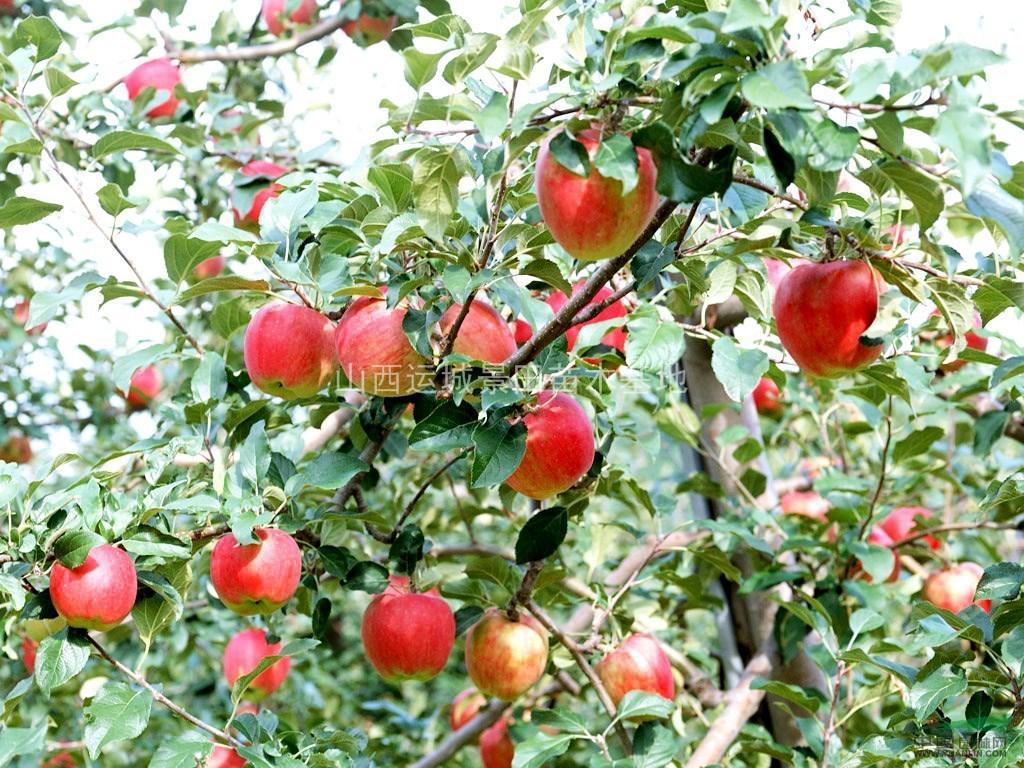apple: (536, 135, 658, 266), (770, 258, 882, 378), (501, 388, 595, 503), (241, 300, 341, 400), (359, 587, 454, 684), (341, 295, 428, 400), (208, 525, 300, 611), (46, 541, 137, 627), (464, 608, 548, 699), (594, 630, 675, 709), (431, 297, 514, 364), (222, 623, 288, 699), (117, 58, 187, 115), (919, 562, 982, 611), (865, 506, 936, 549), (892, 535, 949, 575), (973, 560, 1023, 605), (477, 713, 514, 768), (126, 363, 161, 406), (749, 376, 782, 418)
